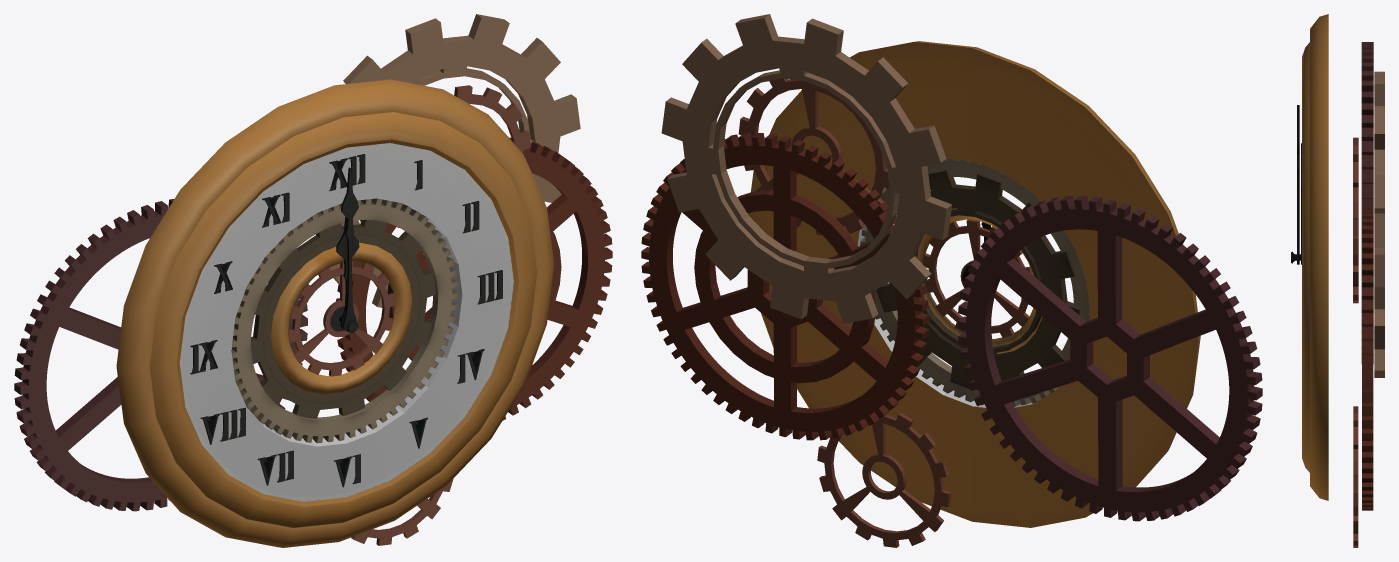
File: gear_clock.fbx
3 renders of one model, left to right at view 1: azimuth 30°, elevation 25°; view 2: azimuth 150°, elevation 25°; view 3: azimuth 270°, elevation 25°, orthographic. The views are drawn at different scales.
Visible parts, largest first — view 1: clock_part01, gearF, gearB, gearD, gearE, gearA, clock_part02, gearC_03, gearC_01, gearC_02, arrow_Long; view 2: clock_part01, gearF, gearD, gearE, gearA, gearC_02, gearB, gearC_01, gearC_03, clock_part02; view 3: clock_part01, gearE, gearD, gearF, gearC_01, gearC_02, arrow_Long.
Part boxes in pixels (x1=…): clock_part01: x1=116, y1=79, x2=554, y2=547; gearF: x1=14, y1=199, x2=307, y2=511; gearB: x1=231, y1=198, x2=458, y2=443; gearD: x1=329, y1=14, x2=580, y2=307; gearE: x1=336, y1=137, x2=612, y2=420; gearA: x1=251, y1=220, x2=435, y2=418; clock_part02: x1=271, y1=242, x2=412, y2=394; gearC_03: x1=288, y1=261, x2=395, y2=376; gearC_01: x1=396, y1=85, x2=530, y2=227; gearC_02: x1=351, y1=478, x2=453, y2=545; arrow_Long: x1=341, y1=167, x2=358, y2=331; clock_part01: x1=748, y1=41, x2=1200, y2=527; gearF: x1=957, y1=195, x2=1262, y2=521; gearD: x1=661, y1=14, x2=951, y2=323; gearE: x1=641, y1=133, x2=929, y2=440; gearA: x1=873, y1=170, x2=1080, y2=388; gearC_02: x1=817, y1=413, x2=950, y2=547; gearB: x1=860, y1=159, x2=1090, y2=406; gearC_01: x1=738, y1=78, x2=889, y2=235; gearC_03: x1=922, y1=219, x2=1032, y2=338; clock_part02: x1=917, y1=207, x2=1042, y2=353; clock_part01: x1=1302, y1=14, x2=1328, y2=500; gearE: x1=1362, y1=206, x2=1373, y2=510; gearD: x1=1374, y1=71, x2=1384, y2=377; gearF: x1=1361, y1=42, x2=1373, y2=363; gearC_01: x1=1353, y1=137, x2=1358, y2=303; gearC_02: x1=1353, y1=406, x2=1358, y2=547; arrow_Long: x1=1297, y1=105, x2=1299, y2=264.
Bounding box in the file's own units: 647 × 522 × 91.5.
